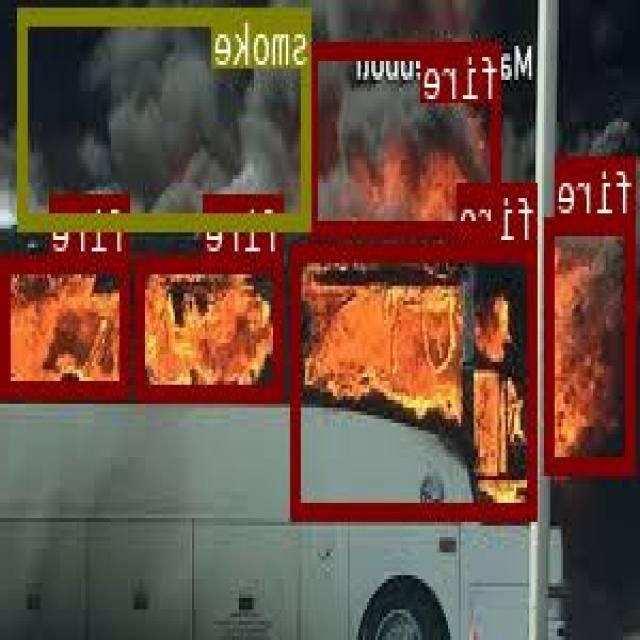fire: (294, 242, 538, 518), (311, 40, 503, 234), (546, 215, 636, 469), (137, 254, 286, 398), (4, 253, 132, 392)
smoke: (20, 5, 312, 228)
